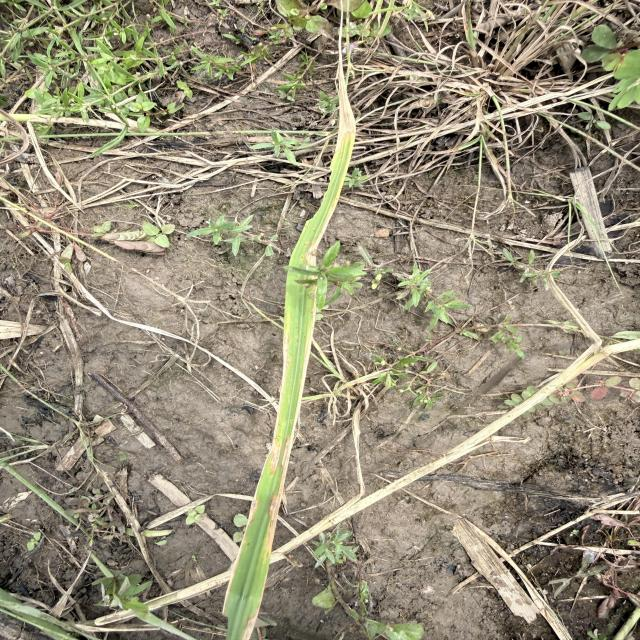Chay bia la: (263, 312, 316, 555), (334, 1, 357, 154), (267, 335, 292, 475), (305, 207, 336, 296), (248, 496, 258, 527)
